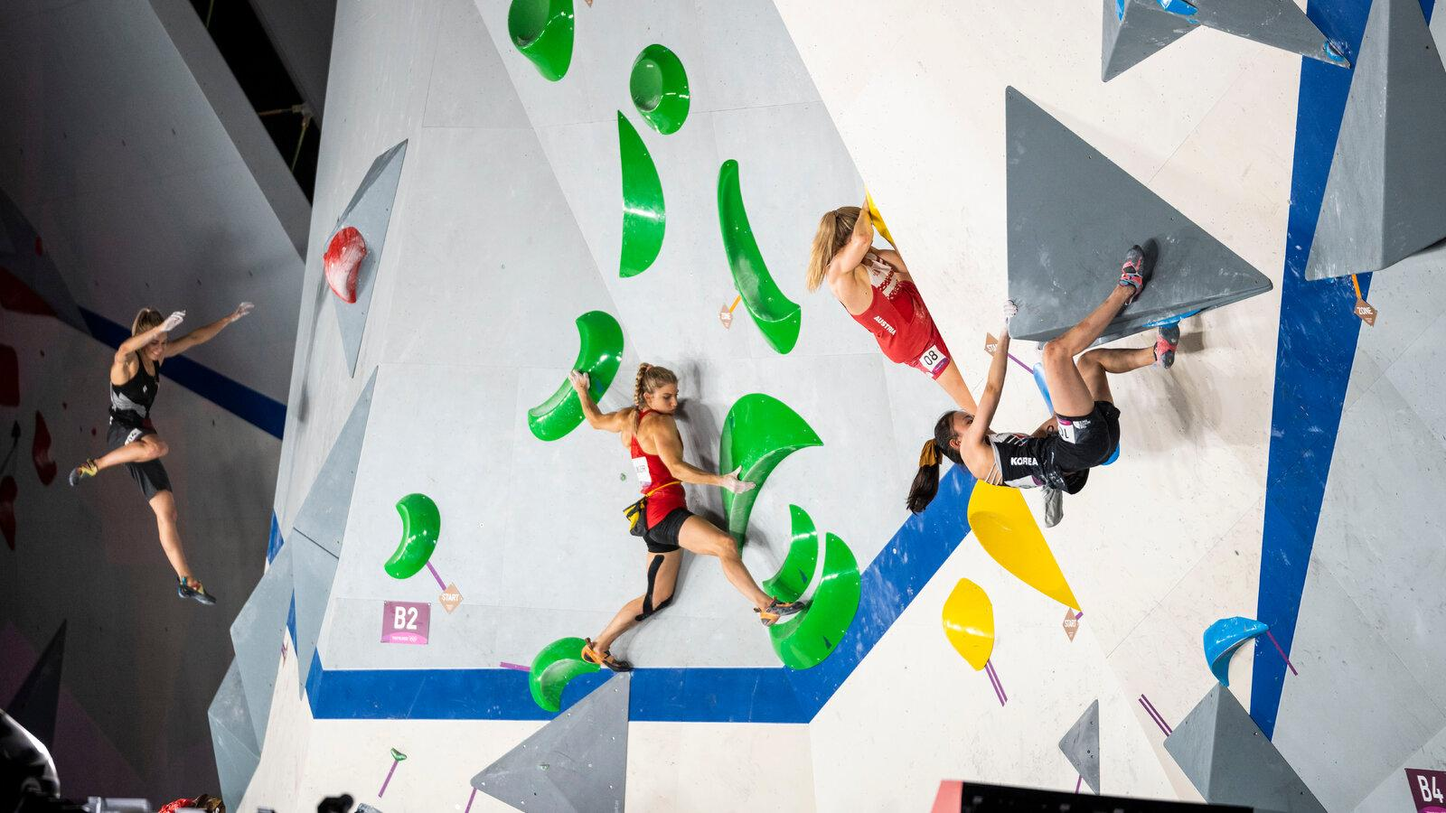black-hold: (661, 379, 833, 561), (687, 154, 818, 363), (951, 462, 1084, 643), (754, 525, 885, 683), (511, 621, 611, 720), (615, 106, 668, 279), (617, 36, 702, 142), (757, 502, 833, 609), (1185, 597, 1272, 690), (381, 489, 447, 585), (938, 574, 999, 675), (506, 0, 576, 84), (517, 377, 595, 451), (573, 311, 624, 406), (315, 222, 372, 306), (1030, 361, 1056, 419), (1141, 309, 1202, 330), (1097, 442, 1127, 472), (1319, 39, 1346, 67), (1155, 0, 1200, 16), (1115, 0, 1125, 22), (1185, 18, 1199, 26)
